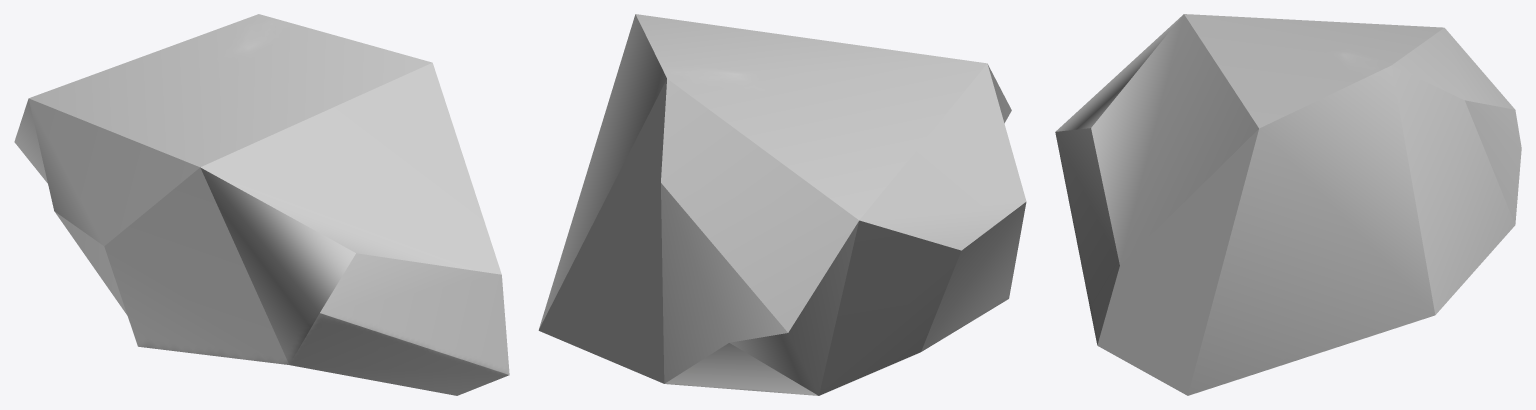
The model's file is Rock1.fbx.
The picture shows the model from 3 angles, left to right: view 1: azimuth 30°, elevation 25°; view 2: azimuth 150°, elevation 25°; view 3: azimuth 270°, elevation 25°; orthographic projection. The views are drawn at different scales.
Visible parts, largest first — view 1: Rock2_pCube1; view 2: Rock2_pCube1; view 3: Rock2_pCube1.
Part boxes in pixels (x1=…): Rock2_pCube1: x1=14, y1=14, x2=509, y2=395; Rock2_pCube1: x1=538, y1=14, x2=1026, y2=395; Rock2_pCube1: x1=1055, y1=14, x2=1521, y2=395.
Size of the model in its own units: 2.69 by 2.44 by 3.52.
Materials: 1 (1 with a texture image).
